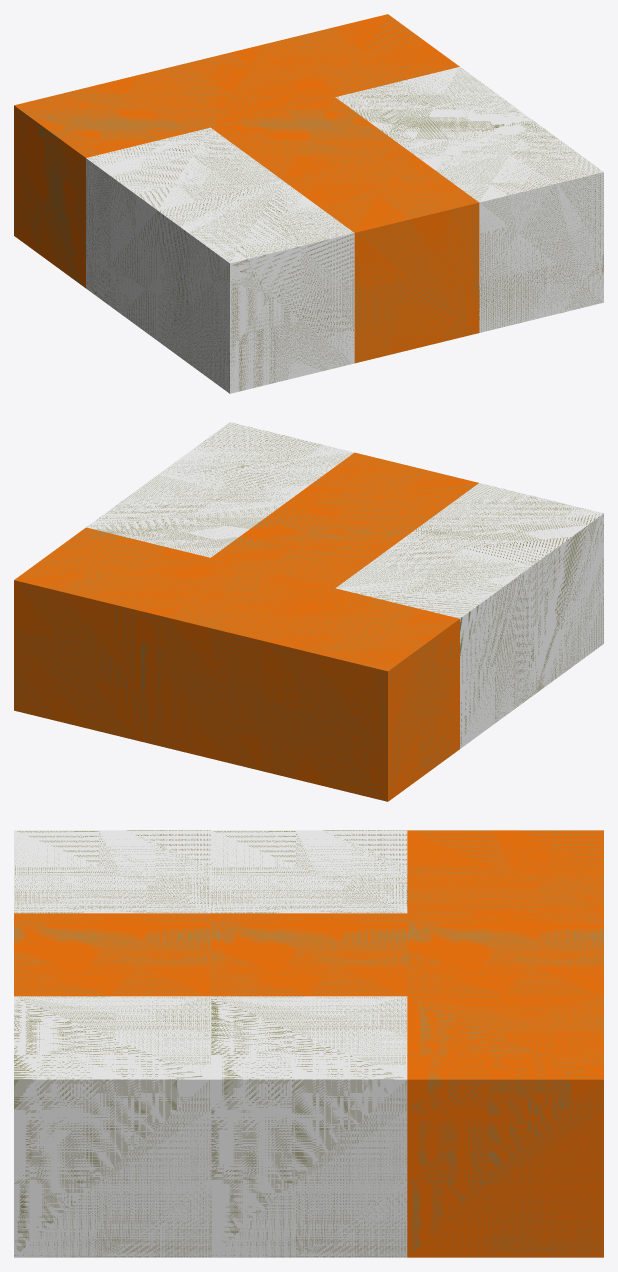
3 views of the same model, one above another, from view 1: azimuth 30°, elevation 25°; view 2: azimuth 150°, elevation 25°; view 3: azimuth 270°, elevation 25° (orthographic). The views are drawn at different scales.
Visible parts, largest first — view 1: juggle shelving; view 2: juggle shelving; view 3: juggle shelving.
Part boxes in pixels (x1,y1,x2,y2): juggle shelving: [14, 14, 603, 393]; juggle shelving: [14, 422, 603, 801]; juggle shelving: [14, 830, 603, 1257].
Size of the model in its own units: 72 by 24 by 72.
